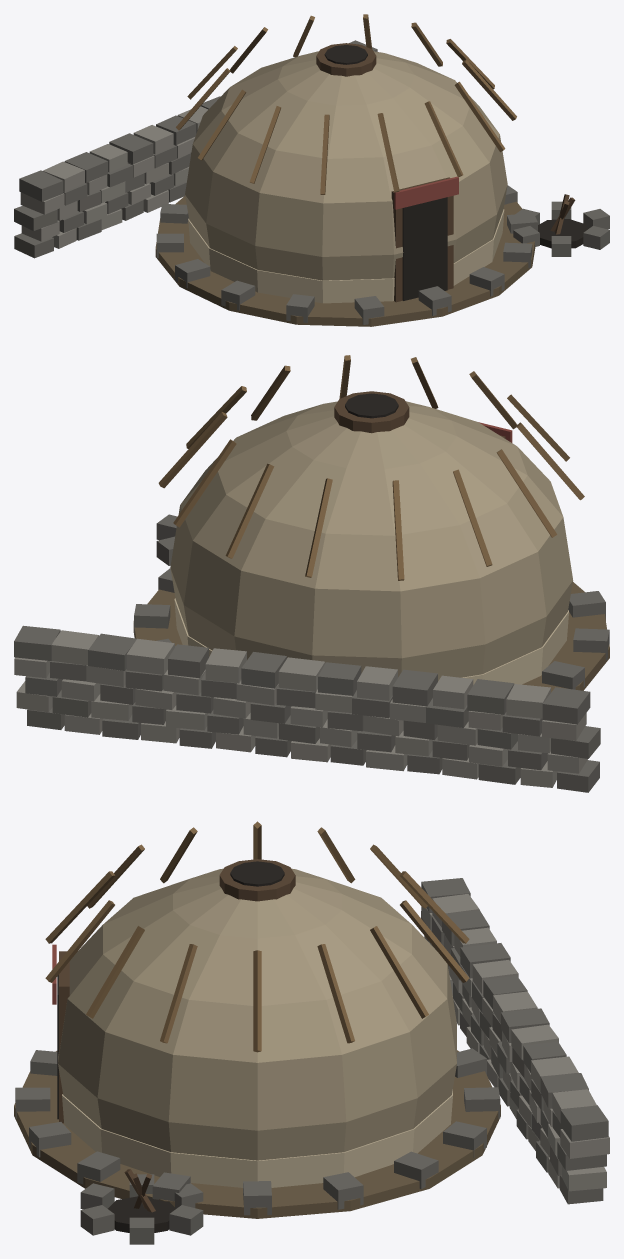
The model's file is M_YurtStone.glb.
3 renders of one model, top to bottom at view 1: azimuth 30°, elevation 25°; view 2: azimuth 150°, elevation 25°; view 3: azimuth 270°, elevation 25°, orthographic. The views are drawn at different scales.
Parts seen in each view (by area): view 1: M_YurtStone_Structure, M_YurtStone_Roof, M_YurtStone_Props, M_YurtStone_Foundation, M_YurtStone_Openings, M_YurtStone_Fixtures; view 2: M_YurtStone_Props, M_YurtStone_Structure, M_YurtStone_Roof, M_YurtStone_Fixtures, M_YurtStone_Foundation; view 3: M_YurtStone_Structure, M_YurtStone_Roof, M_YurtStone_Props, M_YurtStone_Foundation, M_YurtStone_Fixtures, M_YurtStone_Openings.
Boxes of the visible parts, x1,y1,x2,y2 form: M_YurtStone_Structure: (185, 80, 507, 303); M_YurtStone_Roof: (221, 43, 469, 158); M_YurtStone_Props: (14, 40, 609, 258); M_YurtStone_Foundation: (155, 185, 537, 326); M_YurtStone_Openings: (391, 176, 458, 302); M_YurtStone_Fixtures: (176, 14, 516, 194); M_YurtStone_Props: (14, 514, 600, 792); M_YurtStone_Structure: (170, 438, 573, 684); M_YurtStone_Roof: (218, 391, 527, 535); M_YurtStone_Fixtures: (158, 355, 584, 580); M_YurtStone_Foundation: (133, 568, 609, 692); M_YurtStone_Structure: (58, 925, 456, 1187); M_YurtStone_Roof: (103, 859, 411, 1005); M_YurtStone_Props: (80, 878, 609, 1244); M_YurtStone_Foundation: (14, 1048, 500, 1218); M_YurtStone_Fixtures: (45, 821, 469, 1052); M_YurtStone_Openings: (52, 944, 69, 1123).
Bounding box in the file's own units: 8.25 × 3.25 × 7.22.
